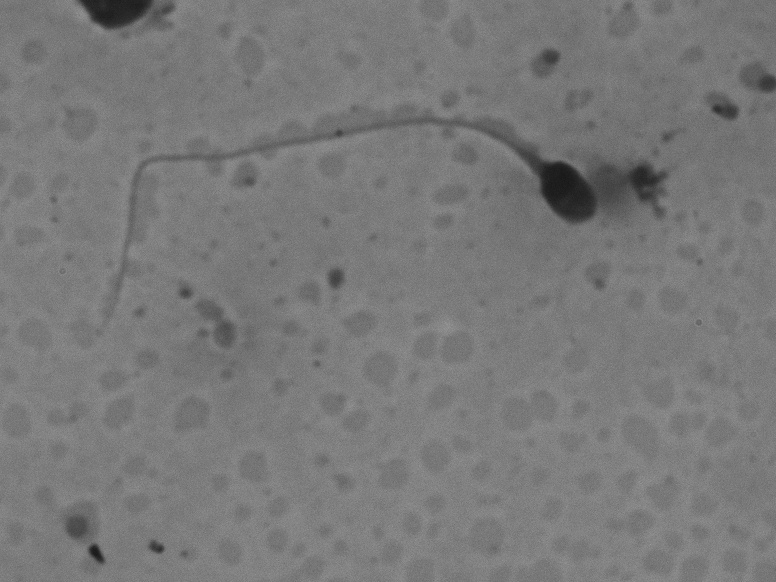Abnormal: (53, 92, 604, 349)
